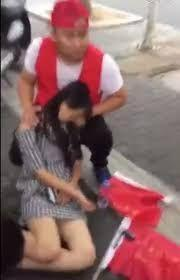Fall-Detected: (4, 77, 101, 279)
